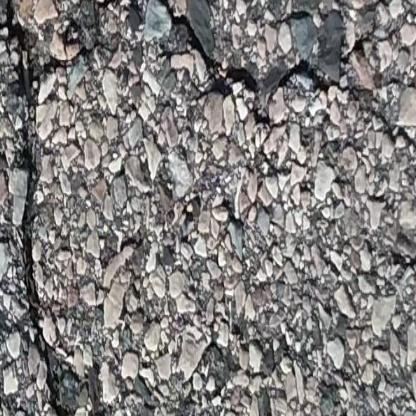Cracks: (0, 0, 291, 416), (275, 24, 416, 157), (279, 4, 318, 28), (356, 0, 400, 21)
